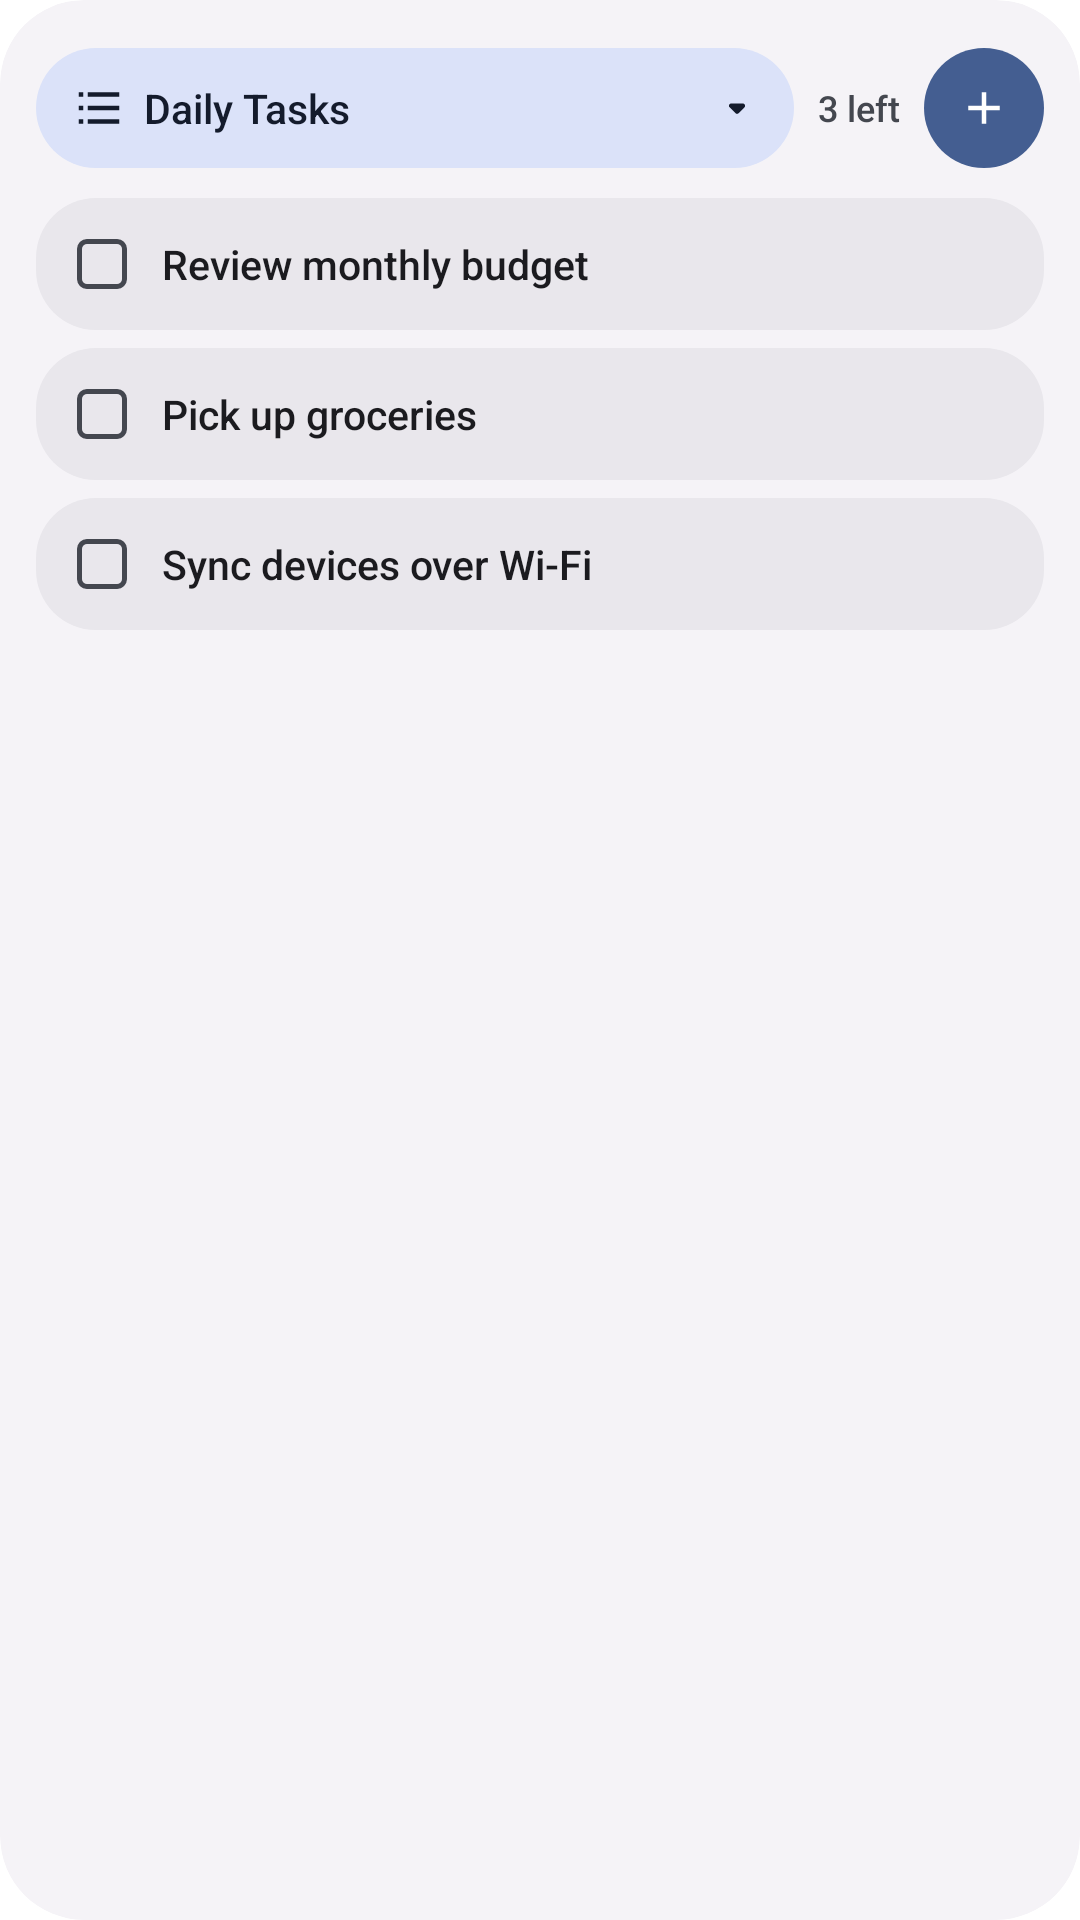

Locate icon controls on the screen. Image size 1080w x 1920h, boxes as region(x1, y1, x2, y2).
add: region(968, 92, 1000, 124)
checkbox unchecked: region(77, 239, 127, 289), region(77, 389, 127, 439), region(77, 539, 127, 589)
checklist: region(78, 92, 120, 124)
